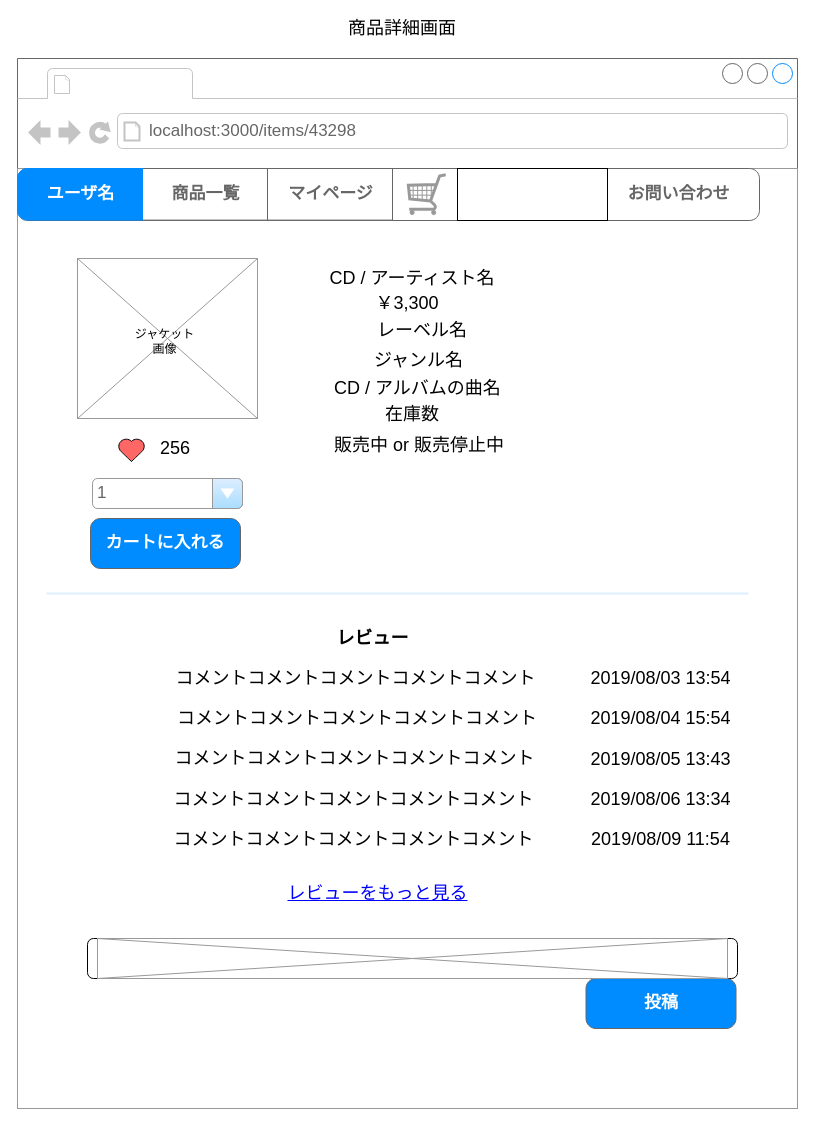
The diagram is 815 pixels wide and 1126 high, and some of its shapes have lost their labels. The shapes that lost their labels are listed below. From the top down, each one's centre as x and y in pixels, then its label:
At pixel 132 83: "dicite".
At pixel 532 194: "ログアウト".
